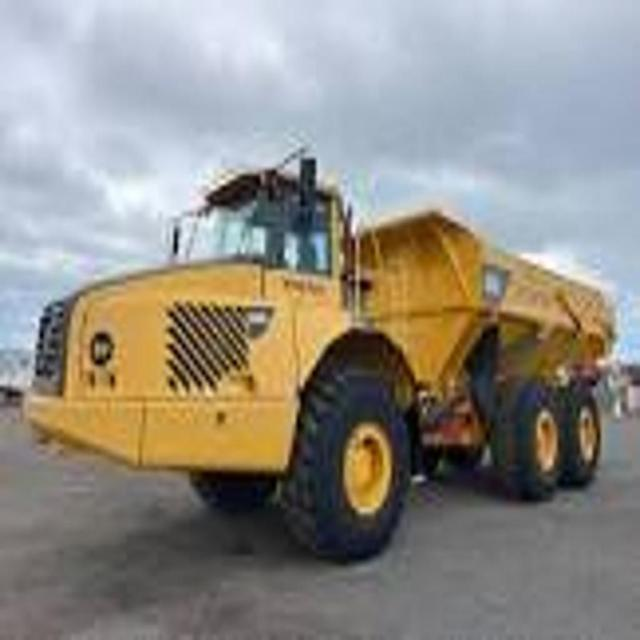dump_truck: (28, 141, 623, 571)
